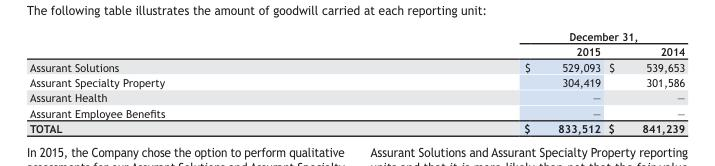table: (29, 29, 684, 134)
table column: (29, 29, 343, 134), (343, 29, 603, 134), (603, 29, 684, 134)
table column header: (29, 29, 684, 58)
table row: (29, 58, 684, 74), (29, 89, 684, 105), (29, 43, 684, 58), (29, 74, 684, 89), (29, 105, 684, 120), (29, 29, 684, 43), (29, 120, 684, 134)
table spanning cell: (343, 29, 684, 43)
